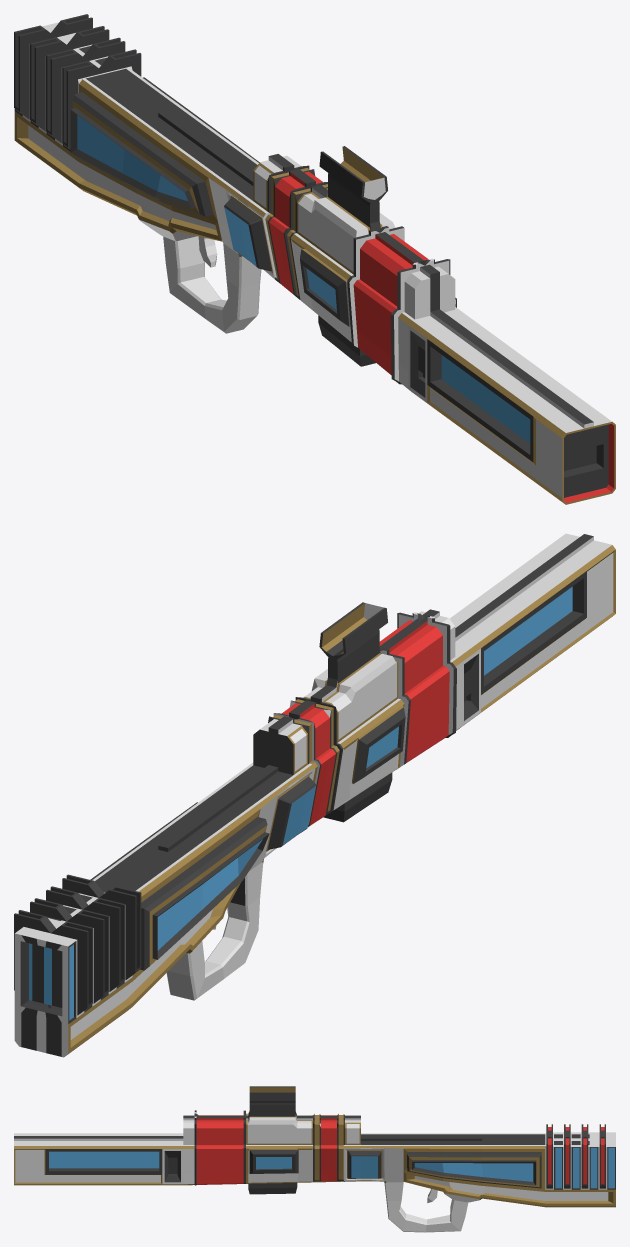
Rendered from SpaceRifle.fbx.
The picture shows the model from 3 angles, top to bottom: view 1: azimuth 30°, elevation 25°; view 2: azimuth 150°, elevation 25°; view 3: azimuth 270°, elevation 25°; orthographic projection. The views are drawn at different scales.
Visible parts, largest first — view 1: Cube; view 2: Cube; view 3: Cube.
Part boxes in pixels (x1,y1,x2,y2): Cube: (14, 14, 615, 504); Cube: (14, 533, 615, 1057); Cube: (14, 1086, 615, 1232).
Size of the model in its own units: 75 by 208 by 805.
